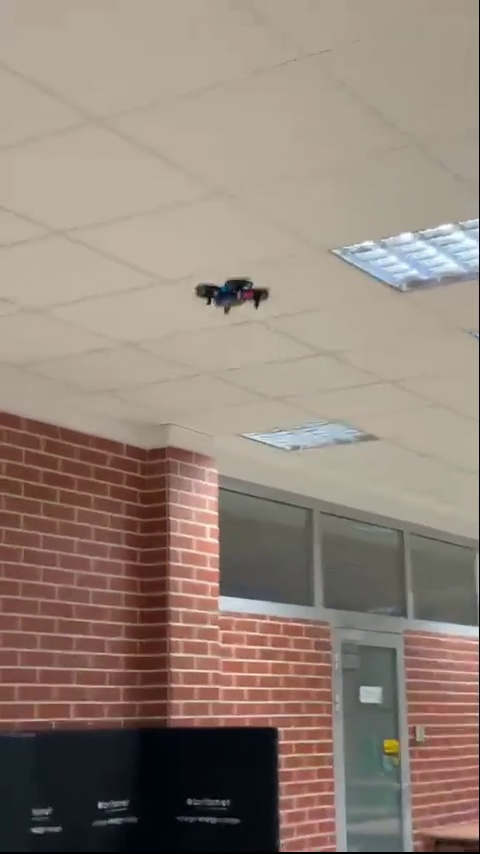drone: (195, 275, 271, 313)
